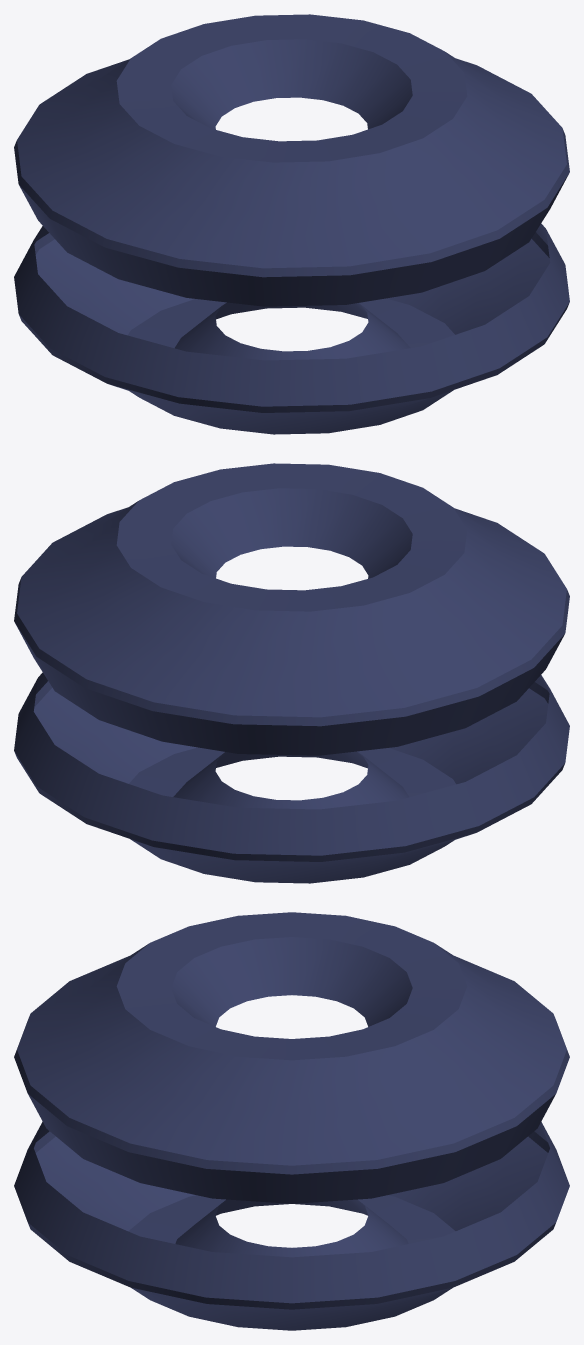
File: playerBall.fbx
3 renders of one model, top to bottom at view 1: azimuth 30°, elevation 25°; view 2: azimuth 150°, elevation 25°; view 3: azimuth 270°, elevation 25°, orthographic.
Parts seen in each view (by area): view 1: playerBall; view 2: playerBall; view 3: playerBall.
Boxes of the visible parts, box(x1,y1,x2,y2) form: playerBall: box(14, 14, 569, 434); playerBall: box(14, 463, 569, 883); playerBall: box(14, 912, 569, 1330).
Bounding box in the file's own units: 4.69 × 2.52 × 4.69.
